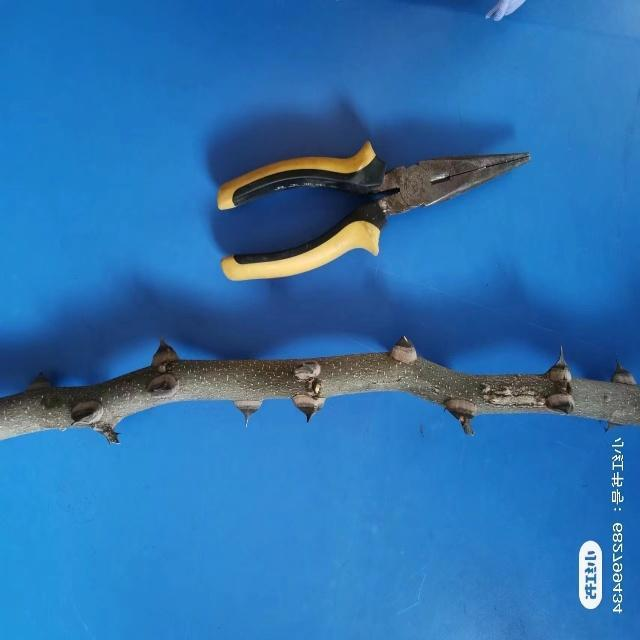branch: (0, 340, 640, 446)
